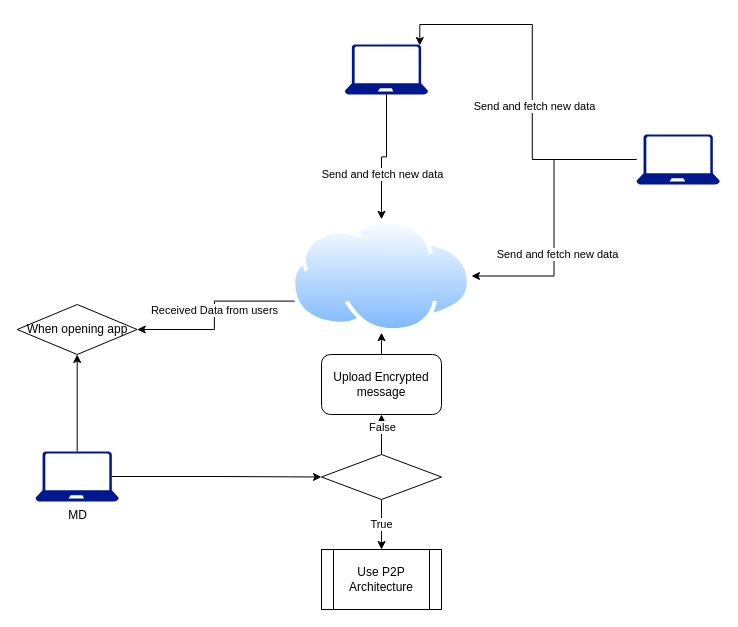
This 738x627 diagram has some shape labels left out. The shapes that lost their labels are listed below. From the top down, each one's centre as x and y in pixels, then its label:
At [381,275]: "Distributed File DB".
At [381,477]: "is device online".
